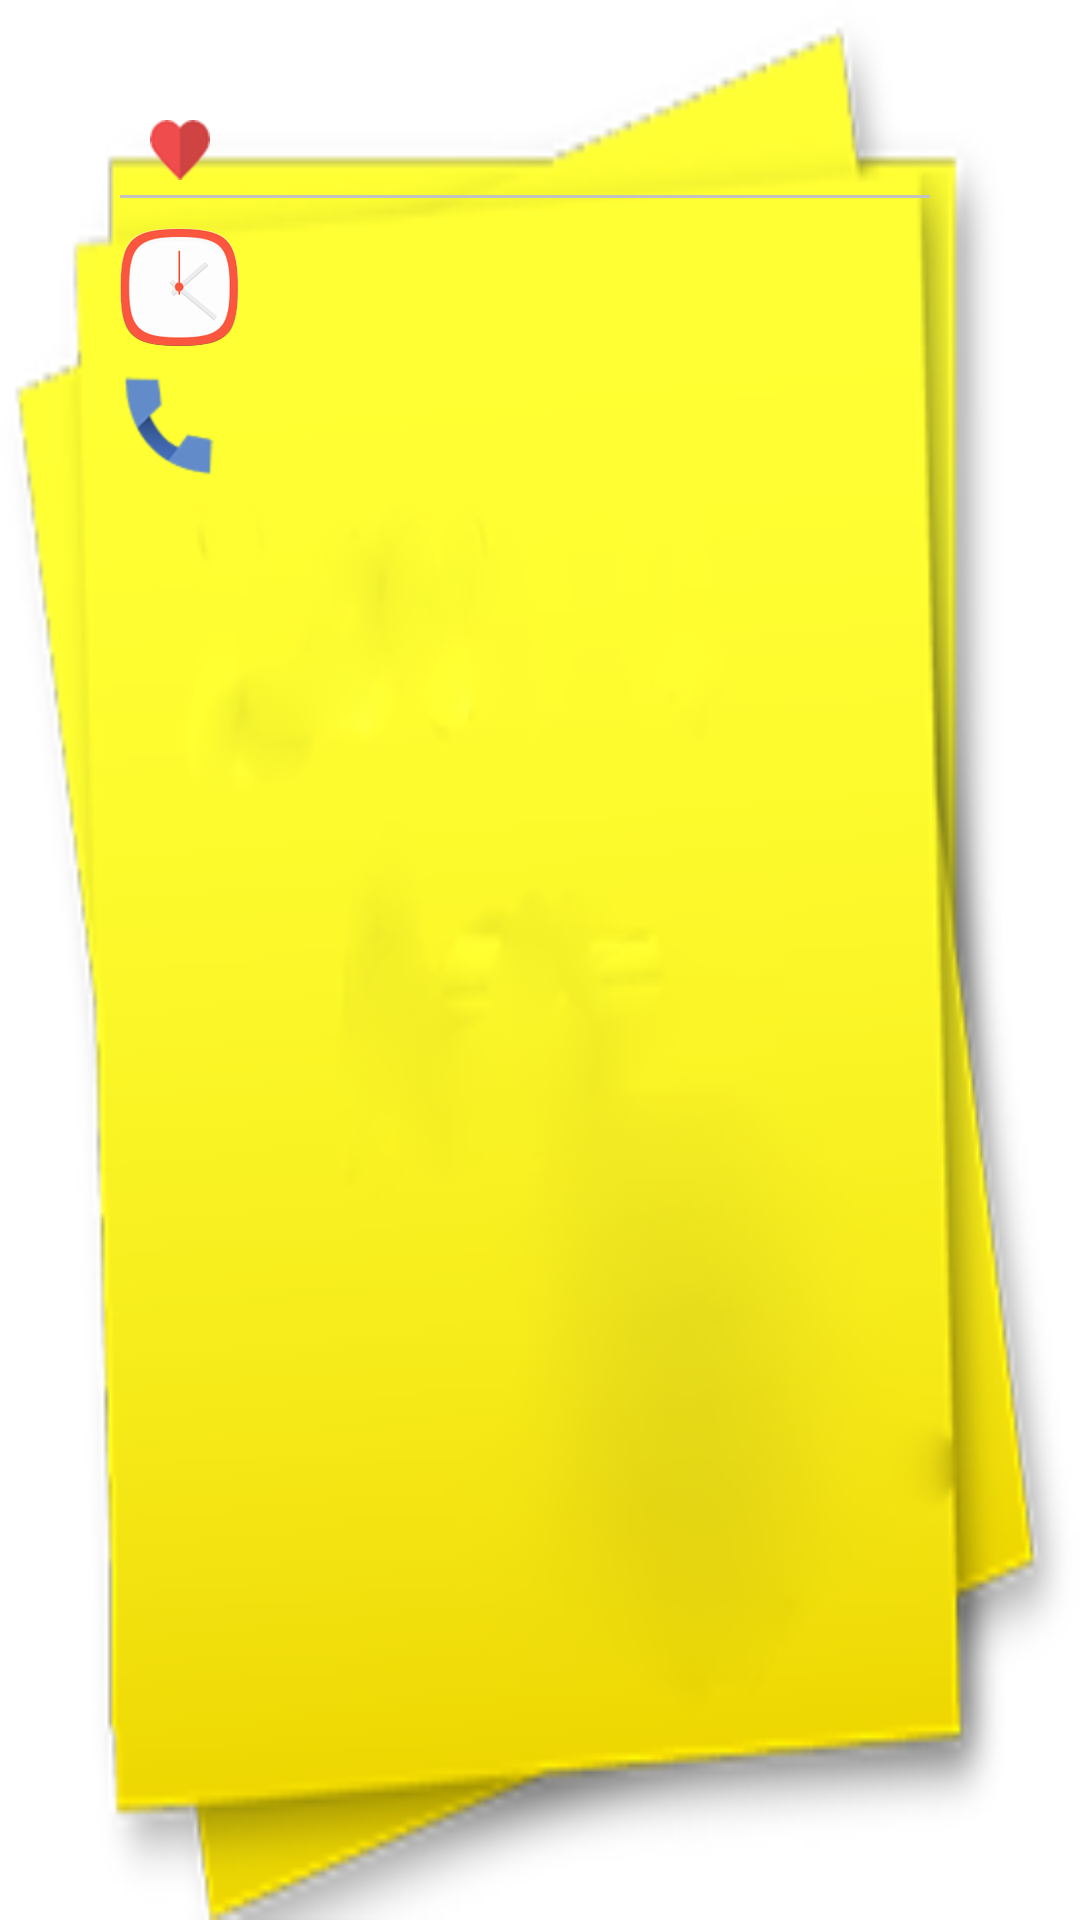

Screen size 1080*1920. Icon name, then its center in pixels as point (x, y):
clockmark: point (179, 287)
heart: point (180, 150)
phone: point (169, 425)
